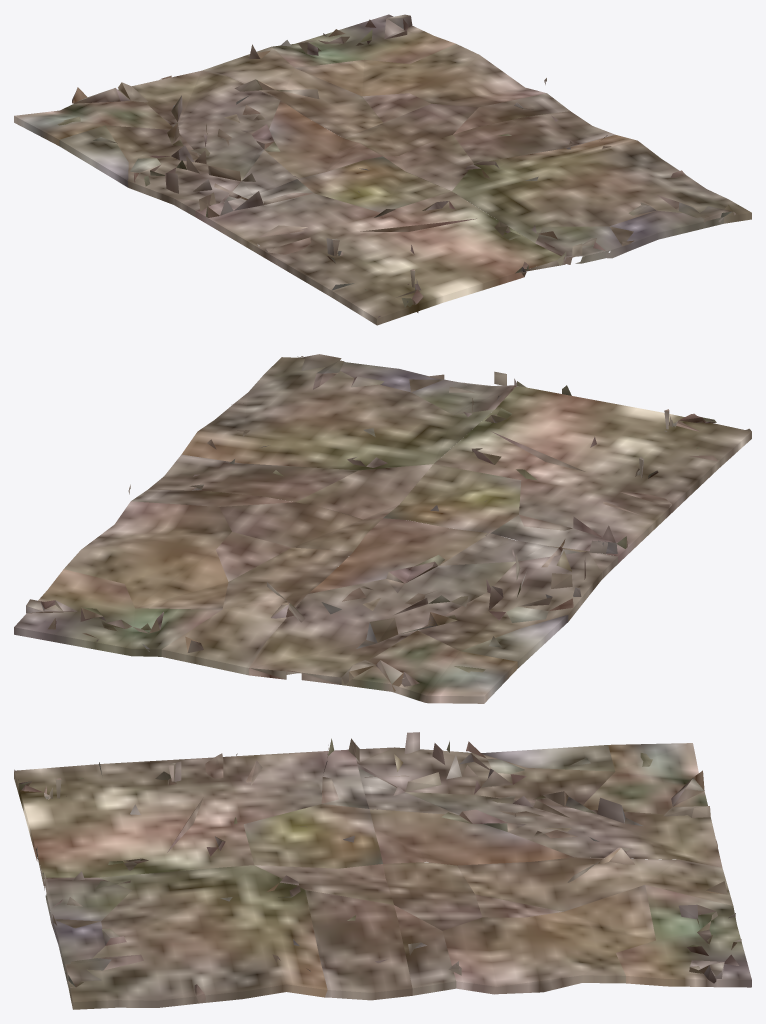
3 views of the same model, one above another, from view 1: azimuth 30°, elevation 25°; view 2: azimuth 150°, elevation 25°; view 3: azimuth 270°, elevation 25° (orthographic). The views are drawn at different scales.
Visible parts, largest first — view 1: Mesh_0; view 2: Mesh_0; view 3: Mesh_0.
Part boxes in pixels (x1,y1,x2,y2): Mesh_0: (14, 14, 751, 325); Mesh_0: (14, 354, 751, 703); Mesh_0: (14, 732, 751, 1009).
Size of the model in its own units: 1064 by 109 by 1318.
Materials: 1 (1 with a texture image).
